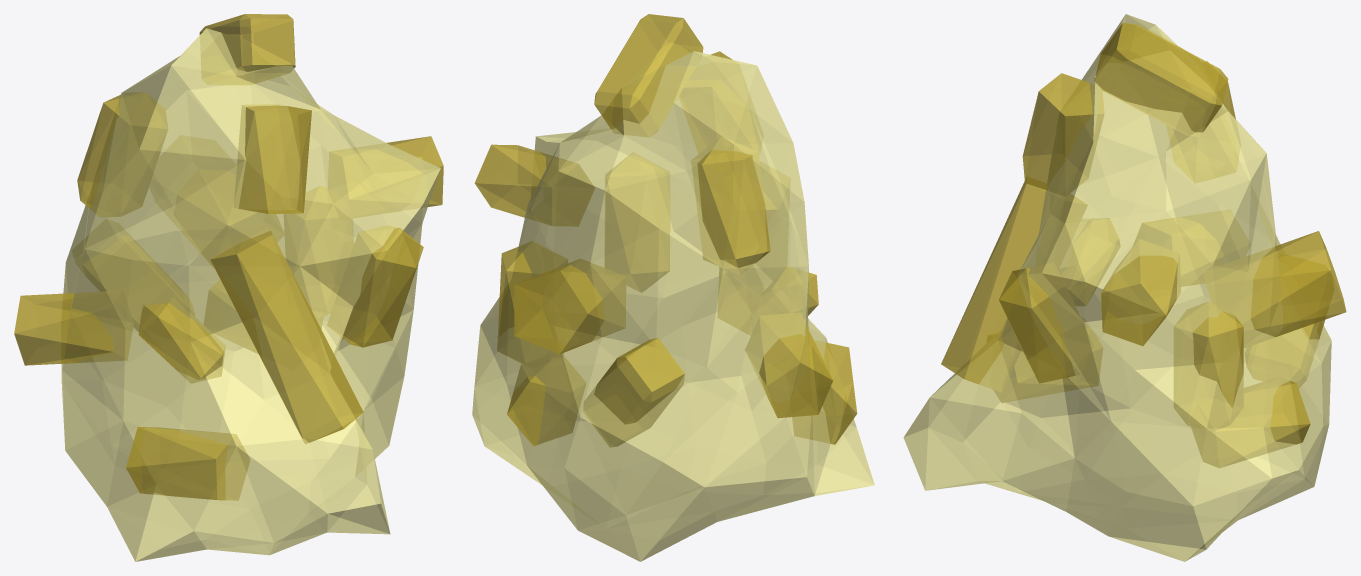
File: TopazDeposit_v2.fbx
The picture shows the model from 3 angles, left to right: view 1: azimuth 30°, elevation 25°; view 2: azimuth 150°, elevation 25°; view 3: azimuth 270°, elevation 25°; orthographic projection. The views are drawn at different scales.
Visible parts, largest first — view 1: Icosphere, Icosphere.013; view 2: Icosphere, Icosphere.013; view 3: Icosphere, Icosphere.013.
Boxes of the visible parts, x1,y1,x2,y2 form: Icosphere: (61,28,440,561); Icosphere.013: (14,14,443,500); Icosphere: (472,42,874,561); Icosphere.013: (474,14,857,447); Icosphere: (903,14,1331,561); Icosphere.013: (941,23,1346,467).
Size of the model in its own units: 711 by 858 by 707.
